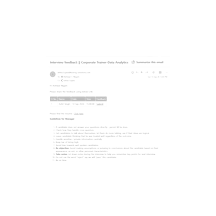

What the dashboard file says about the page in this screenshot:
{"tool":"powerbi","page":{"name":"Page 1","canvas":[1280,720],"ordinal":0},"visuals":[{"type":"group","id":"g1","title":"Group 2","box":[321.7,0,943.3,249.2],"z":0},{"type":"cardVisual","fields":{"Data":["Course.Total Courses"]},"box":[321.9,0,237.7,124.9],"z":0,"group":"g1"},{"type":"slicer","fields":{"Values":["Trainer.TrainerName"]},"box":[34.3,174.2,279.7,150],"z":0,"group":"g2"},{"type":"cardVisual","fields":{"Data":["Course.Total Mocks"]},"box":[549.9,0,238.4,124.9],"z":1000,"group":"g1"},{"type":"textbox","box":[25.4,36.9,296.2,50.9],"z":1000},{"type":"slicer","fields":{"Values":["Course.CourseName"]},"box":[34.3,339.5,279.7,255.5],"z":1000,"group":"g2"},{"type":"cardVisual","fields":{"Data":["Course.Trainer-Course Validated"]},"box":[788.3,0,238.4,124.9],"z":2000,"group":"g1"},{"type":"group","id":"g2","title":"Group 1","box":[34.3,174.2,279.7,507.3],"z":2000},{"type":"slicer","fields":{"Values":["TrainerCourseMapping.MappingStatus"]},"box":[34.3,610.3,279.7,71.2],"z":2000,"group":"g2"},{"type":"cardVisual","fields":{"Data":["Course.Avg Mocks per Trainer-Course"]},"box":[1026.7,0,238.4,124.9],"z":3000,"group":"g1"},{"type":"pivotTable","fields":{"Rows":["Trainer.TrainerName","Course.CourseName"],"Values":["Course.Total Mocks","Course.Latest Activity Type","Course.Latest Mock Summary"]},"box":[338.2,249.2,942.1,443.7],"z":3000},{"type":"cardVisual","fields":{"Data":["Course.Latest Mock Rating"]},"box":[321.7,124.6,943.3,124.6],"z":4000,"group":"g1"}]}

Visuals, with their boxes on the page's 1280x720 design canvas (x1, y1, x2, y2). These are canvas units, not pixel positions in the 216x216 screenshot, which may show the page scaled, cropped or inside an application window:
"Group 2" group: x1=322, y1=0, x2=1265, y2=249
cardVisual - Course.Total Courses: x1=322, y1=0, x2=560, y2=125
slicer - Trainer.TrainerName: x1=34, y1=174, x2=314, y2=324
cardVisual - Course.Total Mocks: x1=550, y1=0, x2=788, y2=125
textbox: x1=25, y1=37, x2=322, y2=88
slicer - Course.CourseName: x1=34, y1=340, x2=314, y2=595
cardVisual - Course.Trainer-Course Validated: x1=788, y1=0, x2=1027, y2=125
"Group 1" group: x1=34, y1=174, x2=314, y2=682
slicer - TrainerCourseMapping.MappingStatus: x1=34, y1=610, x2=314, y2=682
cardVisual - Course.Avg Mocks per Trainer-Course: x1=1027, y1=0, x2=1265, y2=125
pivotTable - Trainer.TrainerName x Course.CourseName: x1=338, y1=249, x2=1280, y2=693
cardVisual - Course.Latest Mock Rating: x1=322, y1=125, x2=1265, y2=249
